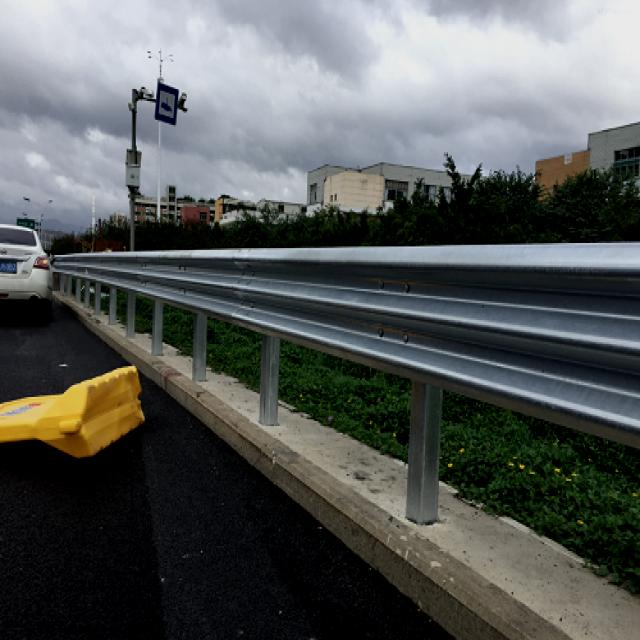Guard rail: (54, 242, 640, 447)
